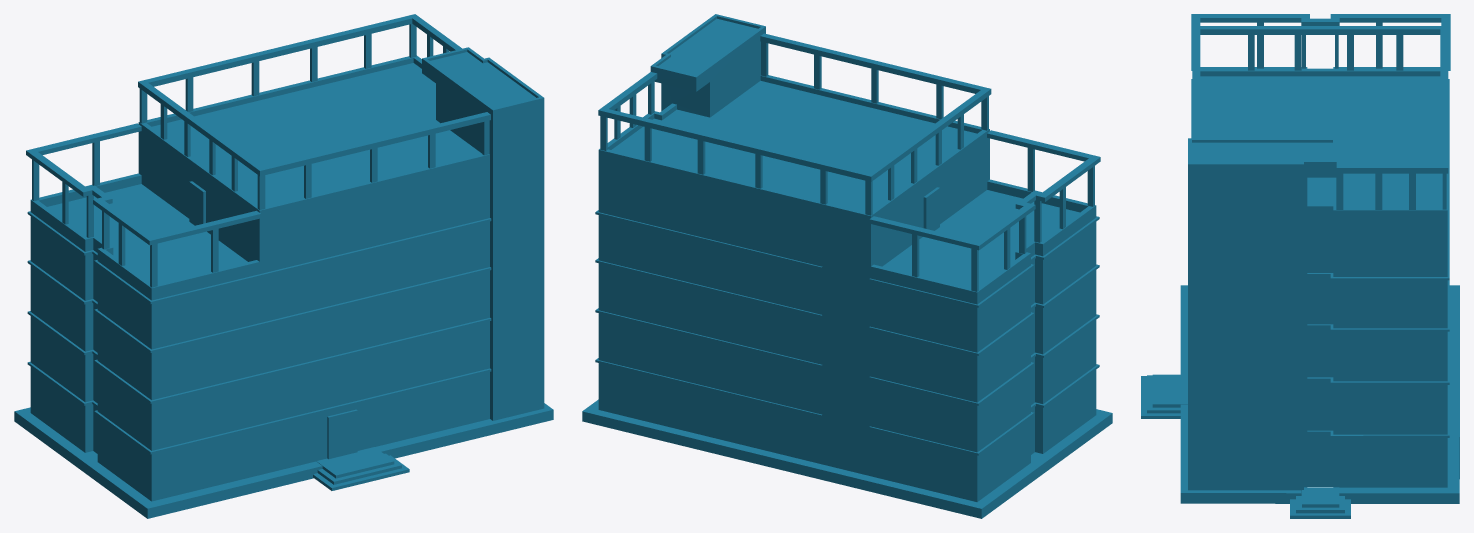
The model's file is yq_sushelou02.glb.
3 renders of one model, left to right at view 1: azimuth 30°, elevation 25°; view 2: azimuth 150°, elevation 25°; view 3: azimuth 270°, elevation 25°, orthographic. The views are drawn at different scales.
Parts seen in each view (by area): view 1: yc_shushelou02_00, yc_shushelou02_07, yc_shushelou02_03, yc_shushelou02_04, yc_shushelou02_02, yc_shushelou02_05, yc_shushelou02_06; view 2: yc_shushelou02_00, yc_shushelou02_07, yc_shushelou02_03, yc_shushelou02_04, yc_shushelou02_06; view 3: yc_shushelou02_00, yc_shushelou02_07, yc_shushelou02_03, yc_shushelou02_04, yc_shushelou02_02, yc_shushelou02_01.
Part boxes in pixels (x1=…): yc_shushelou02_00: x1=30, y1=47, x2=544, y2=501; yc_shushelou02_07: x1=26, y1=14, x2=490, y2=287; yc_shushelou02_03: x1=14, y1=403, x2=553, y2=518; yc_shushelou02_04: x1=27, y1=211, x2=491, y2=454; yc_shushelou02_02: x1=313, y1=447, x2=409, y2=490; yc_shushelou02_05: x1=327, y1=409, x2=357, y2=459; yc_shushelou02_06: x1=189, y1=181, x2=205, y2=225; yc_shushelou02_00: x1=598, y1=14, x2=1096, y2=501; yc_shushelou02_07: x1=598, y1=33, x2=1100, y2=291; yc_shushelou02_03: x1=582, y1=399, x2=1112, y2=518; yc_shushelou02_04: x1=595, y1=210, x2=1099, y2=455; yc_shushelou02_06: x1=923, y1=187, x2=939, y2=230; yc_shushelou02_00: x1=1188, y1=67, x2=1447, y2=492; yc_shushelou02_07: x1=1191, y1=14, x2=1450, y2=209; yc_shushelou02_03: x1=1180, y1=285, x2=1459, y2=503; yc_shushelou02_04: x1=1191, y1=79, x2=1449, y2=437; yc_shushelou02_02: x1=1141, y1=374, x2=1187, y2=418; yc_shushelou02_01: x1=1290, y1=487, x2=1350, y2=518.
Bounding box in the file's own units: 26.98 × 18.87 × 16.22.
